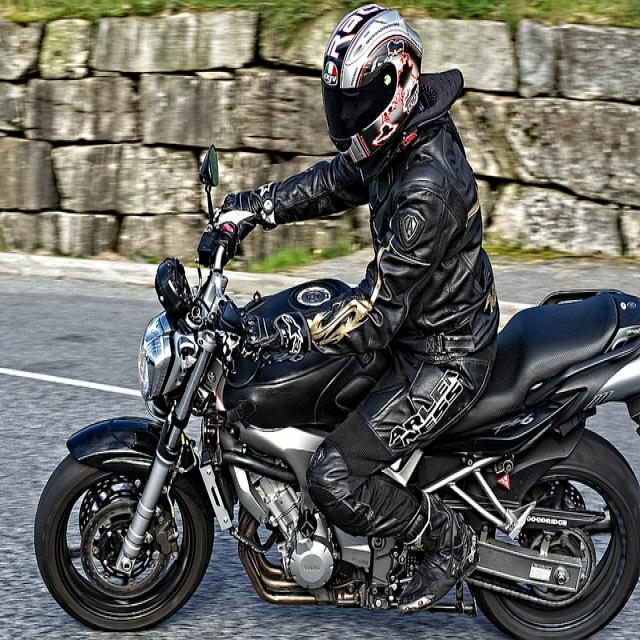motor: (36, 143, 640, 632)
